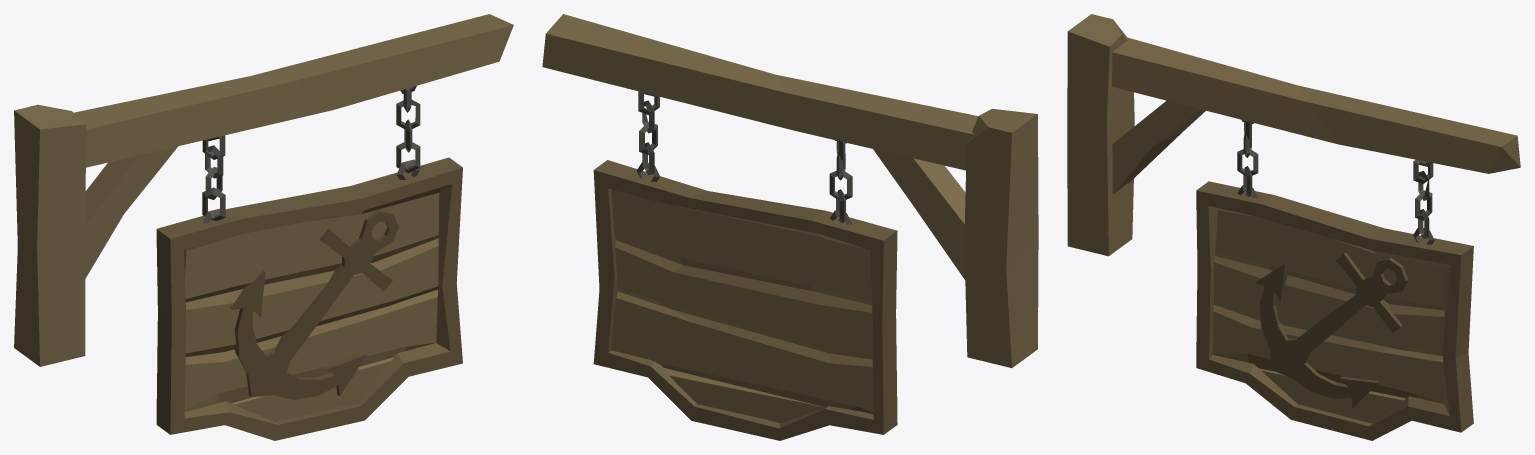
The model's file is Signboard_4.fbx.
3 views of the same model, side by side, from view 1: azimuth 30°, elevation 25°; view 2: azimuth 150°, elevation 25°; view 3: azimuth 330°, elevation 25° (orthographic). The views are drawn at different scales.
Visible parts, largest first — view 1: Signboard_4; view 2: Signboard_4; view 3: Signboard_4.
Boxes of the visible parts, x1=… form: Signboard_4: x1=14, y1=14, x2=513, y2=440; Signboard_4: x1=542, y1=14, x2=1038, y2=440; Signboard_4: x1=1067, y1=14, x2=1520, y2=440.
Size of the model in its own units: 97.71 by 73.37 by 9.98.
